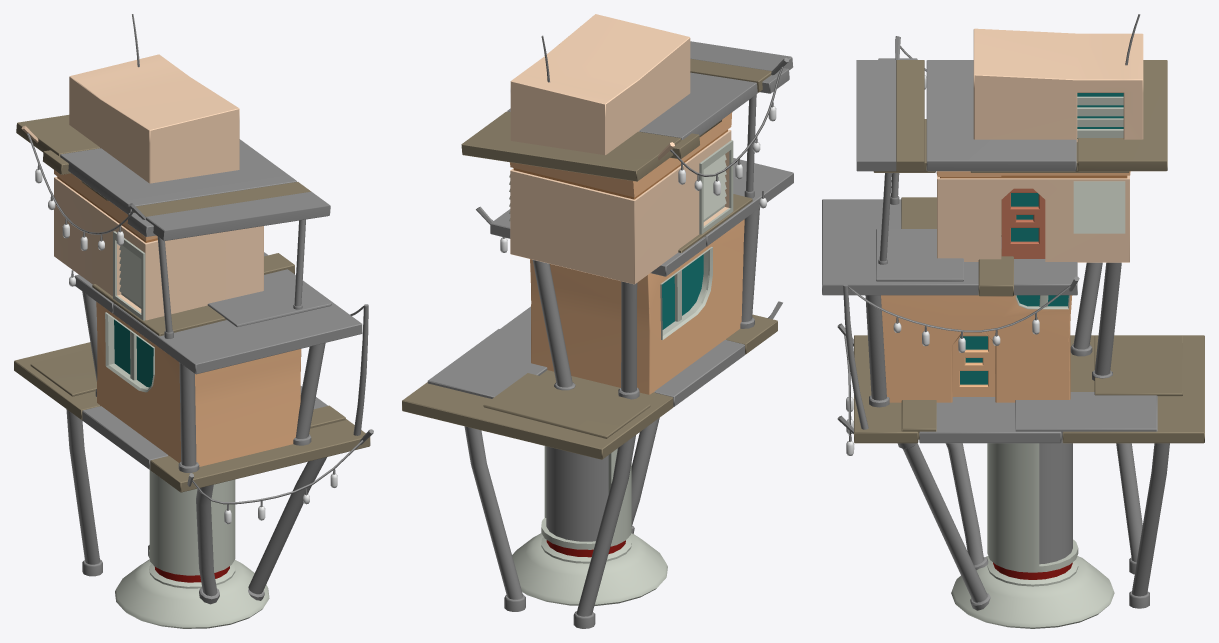
The model's file is SM_caravan_A.fbx.
The picture shows the model from 3 angles, left to right: view 1: azimuth 30°, elevation 25°; view 2: azimuth 150°, elevation 25°; view 3: azimuth 270°, elevation 25°; orthographic projection. The views are drawn at different scales.
Parts seen in each view (by area): view 1: SM_caravan_A; view 2: SM_caravan_A; view 3: SM_caravan_A.
Part boxes in pixels (x1,y1,x2,y2): SM_caravan_A: [14, 14, 373, 628]; SM_caravan_A: [402, 14, 793, 628]; SM_caravan_A: [822, 14, 1204, 628].
Bounding box in the file's own units: 757 × 1648 × 991.
